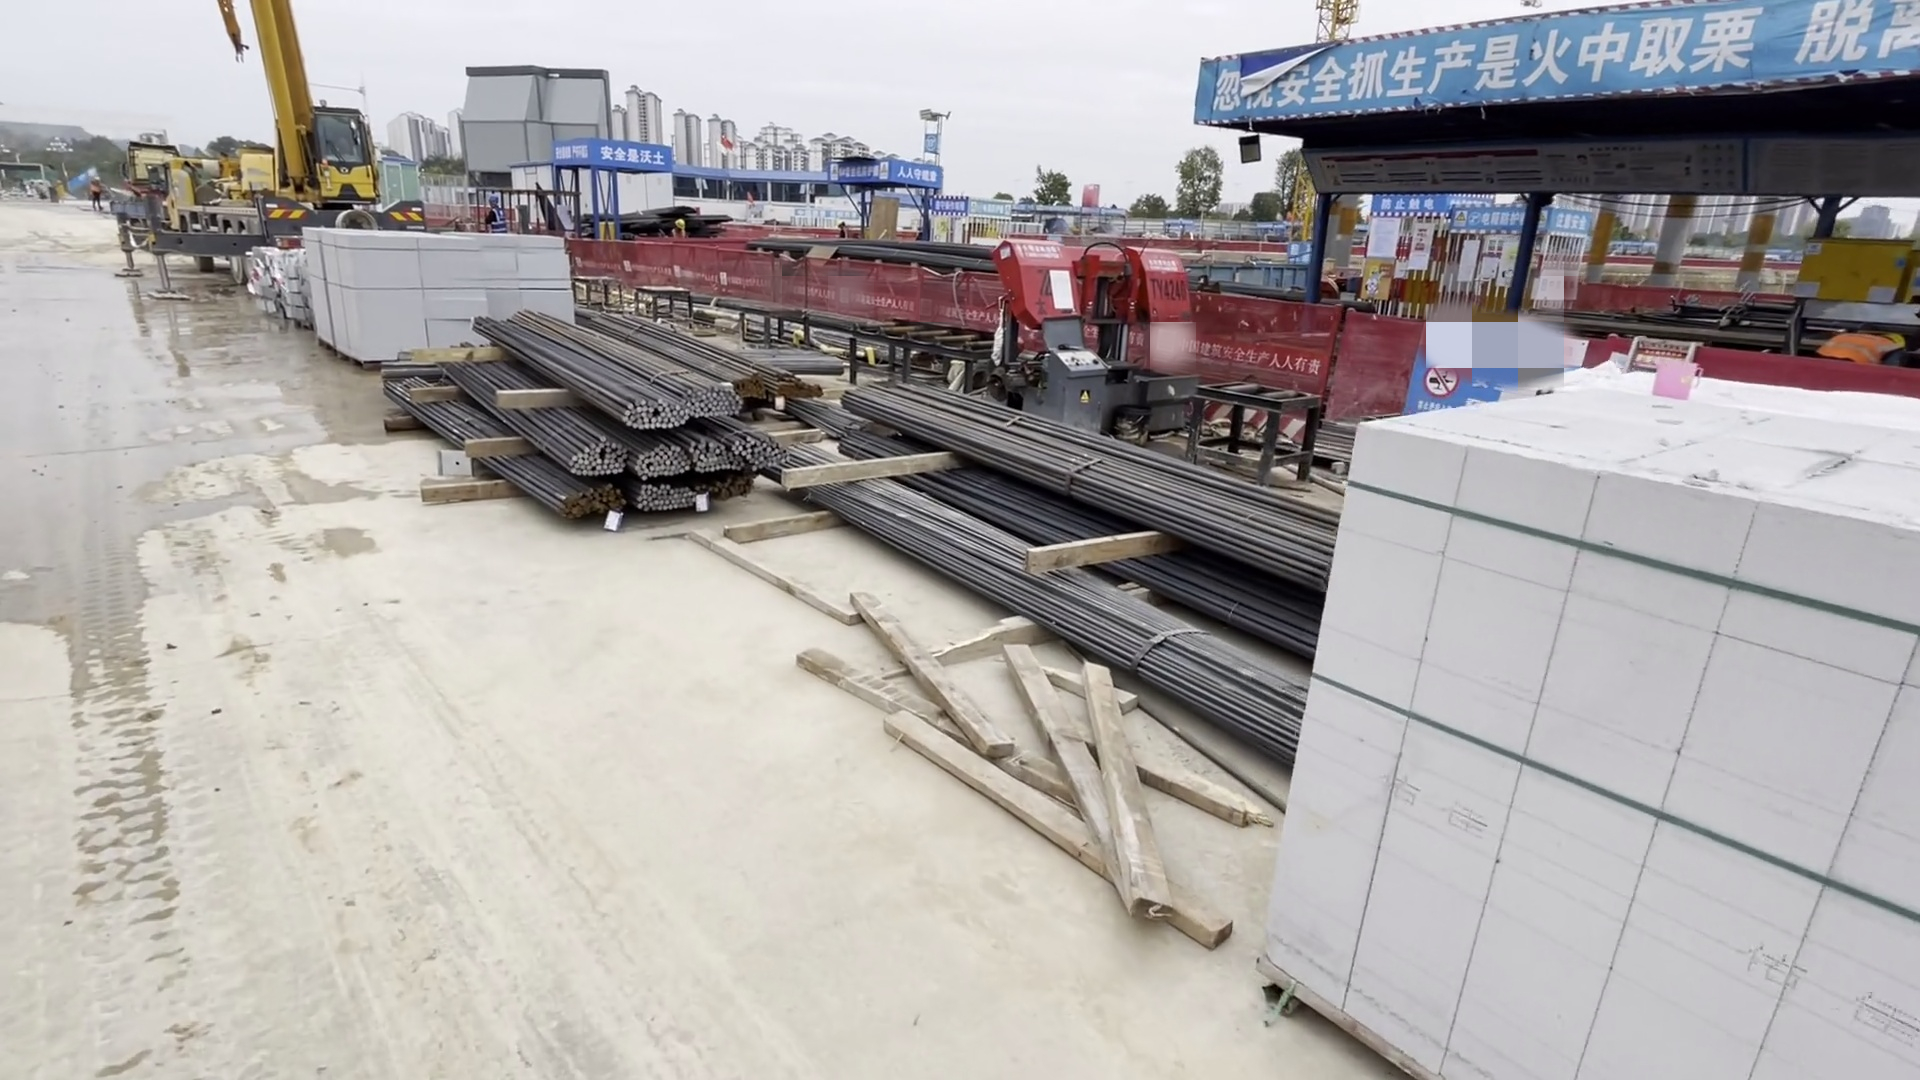brick: (1254, 368, 1920, 1068), (293, 220, 580, 363)
fence: (578, 244, 1036, 345), (1195, 285, 1402, 414)
rebar: (785, 372, 1349, 764), (429, 322, 791, 541)
slogan: (1191, 1, 1920, 132), (1449, 203, 1597, 235), (547, 138, 678, 171), (823, 160, 943, 185), (1367, 190, 1449, 220)
